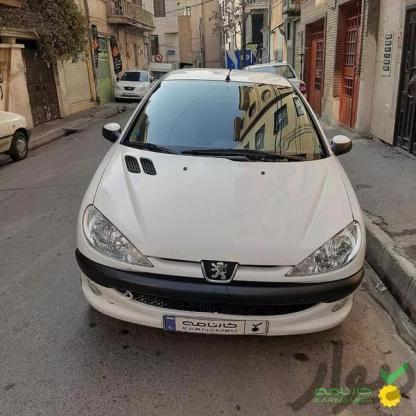Car: (84, 66, 356, 348), (0, 97, 41, 177), (104, 66, 146, 109)
